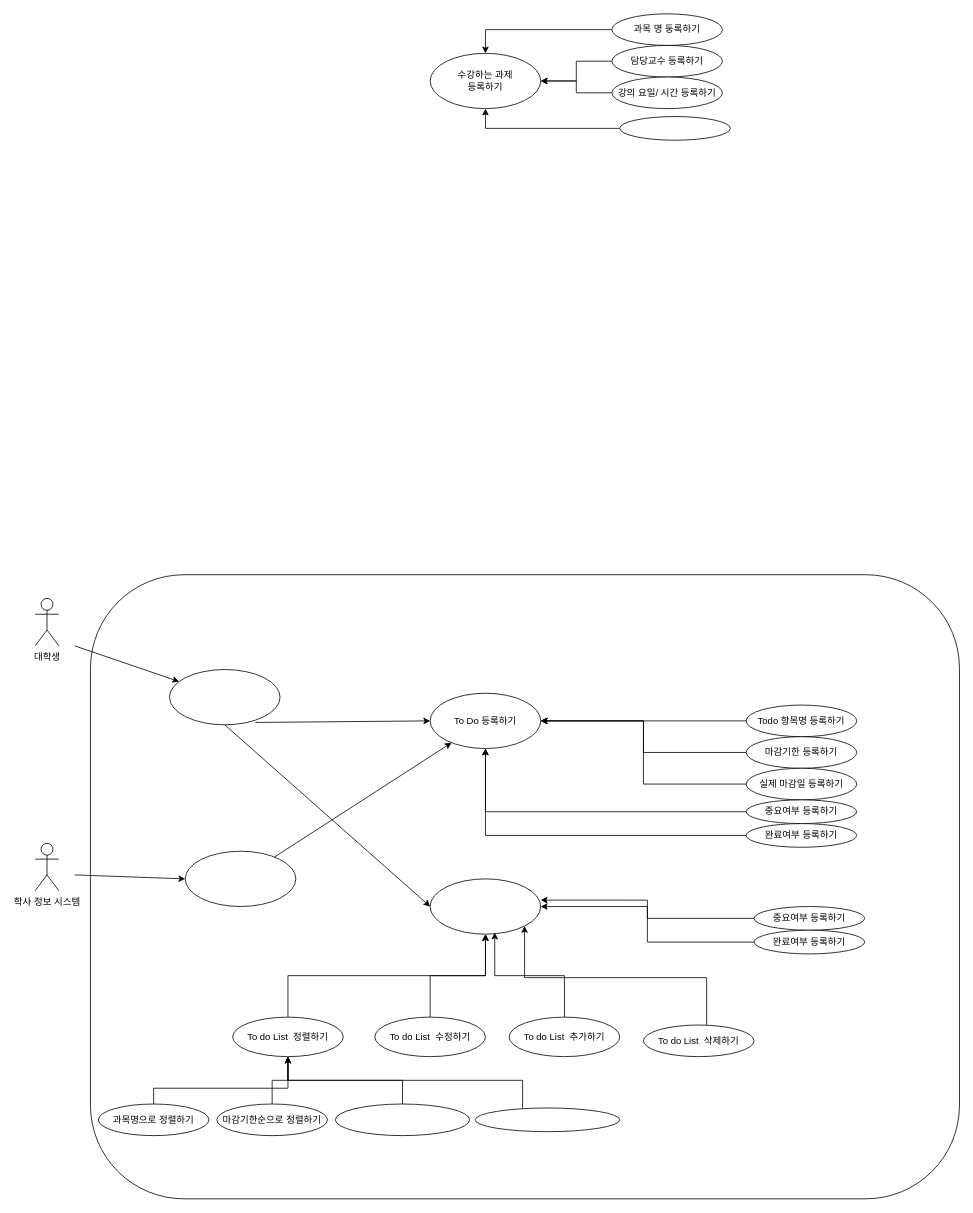
This 973x1213 diagram has some shape labels left out. Each missing label, with the centre of its shape:
To do List 조회하기: [485,906]
과목 데이터 가져오기: [240,878]
로그인: [224,697]
수강 년도 / 학기 등록하기: [674,128]
실제 마감일순으로 정렬하기: [402,1119]
완료여부순으로 정렬하기: [547,1119]
